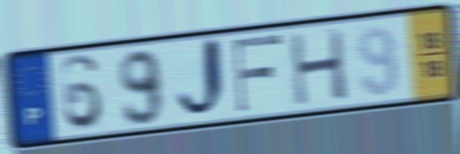6: (58, 53, 105, 134)
9: (116, 47, 166, 127), (355, 23, 402, 99)
F: (231, 31, 286, 115)
H: (286, 25, 351, 109)
J: (174, 34, 231, 125)
